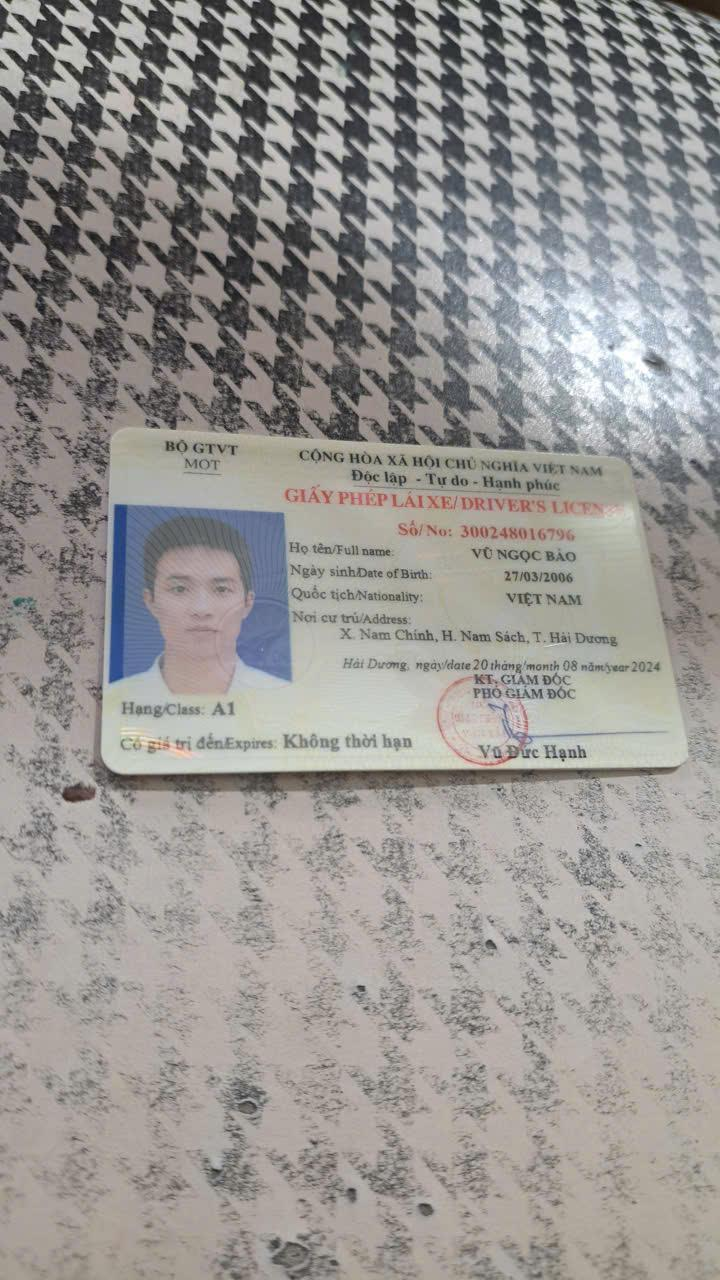gplx: (94, 415, 695, 795)
